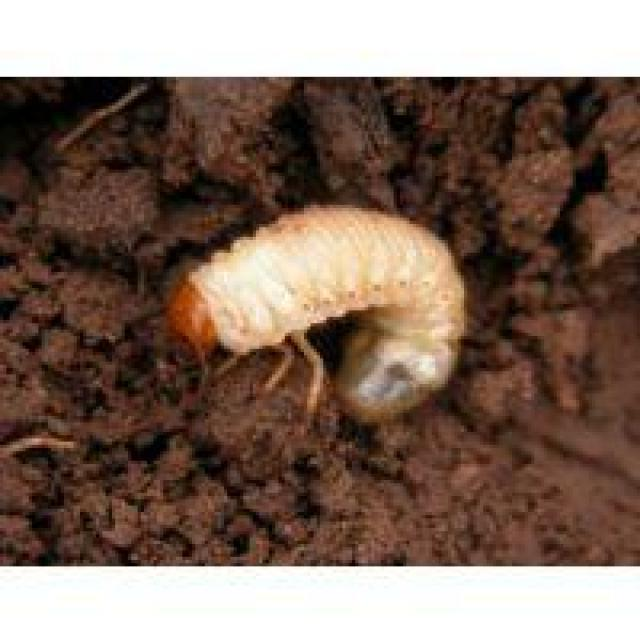Grub-Adult-: (152, 195, 481, 434)
